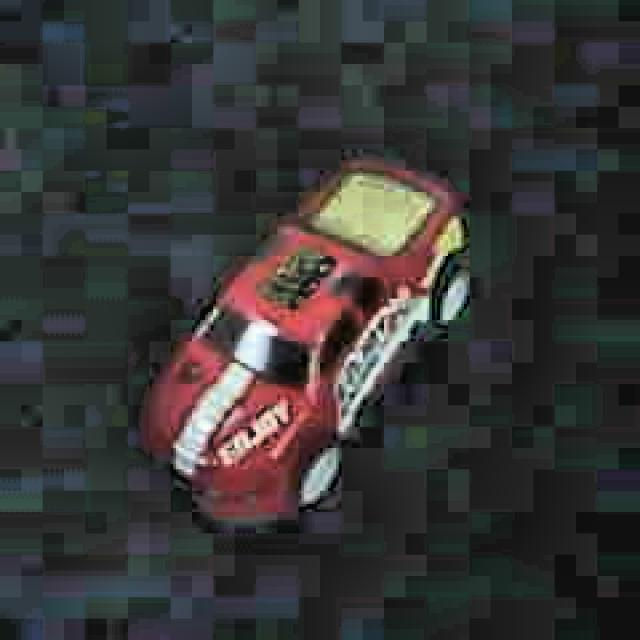car: (133, 149, 479, 524)
